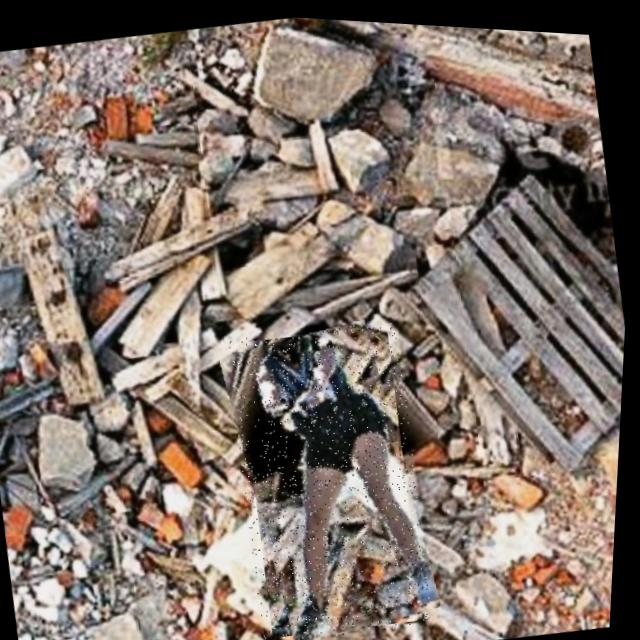Person in Rubble: (217, 307, 452, 640)
